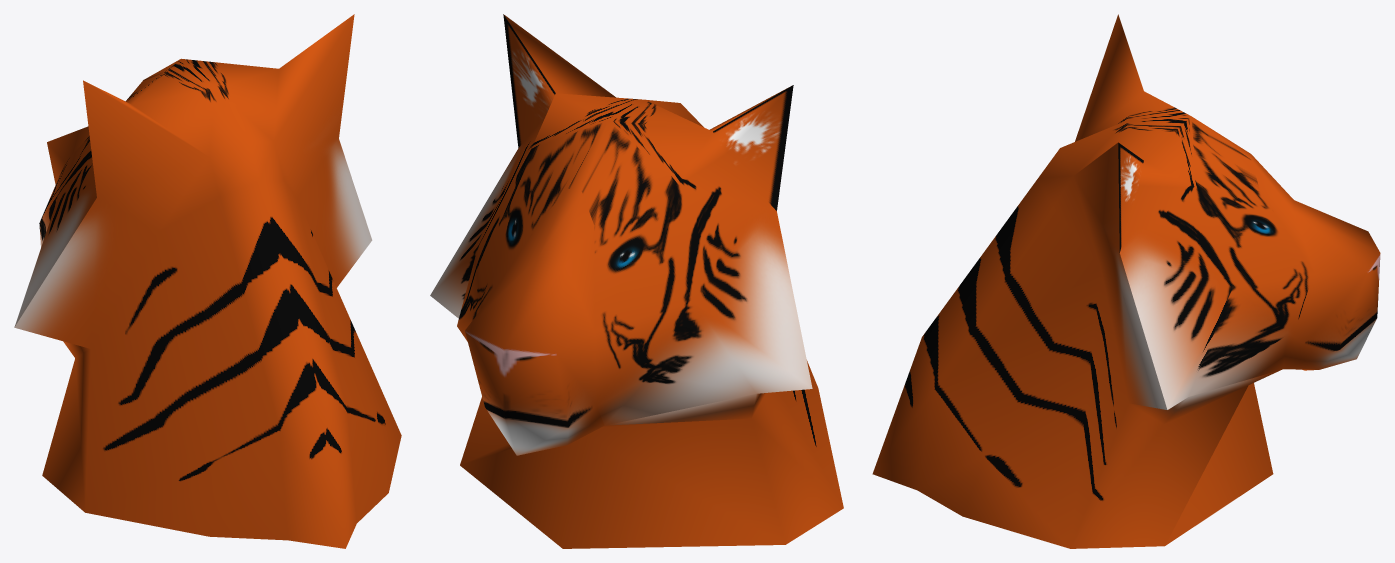
The model's file is Tiger.fbx.
The picture shows the model from 3 angles, left to right: view 1: azimuth 30°, elevation 25°; view 2: azimuth 150°, elevation 25°; view 3: azimuth 270°, elevation 25°; orthographic projection. The views are drawn at different scales.
Parts seen in each view (by area): view 1: pPlane1; view 2: pPlane1; view 3: pPlane1.
Boxes of the visible parts, bbox=[...] form: pPlane1: bbox=[14, 14, 401, 548]; pPlane1: bbox=[430, 14, 843, 548]; pPlane1: bbox=[872, 14, 1380, 548].
Bounding box in the file's own units: 52.36 × 57.15 × 66.45.
